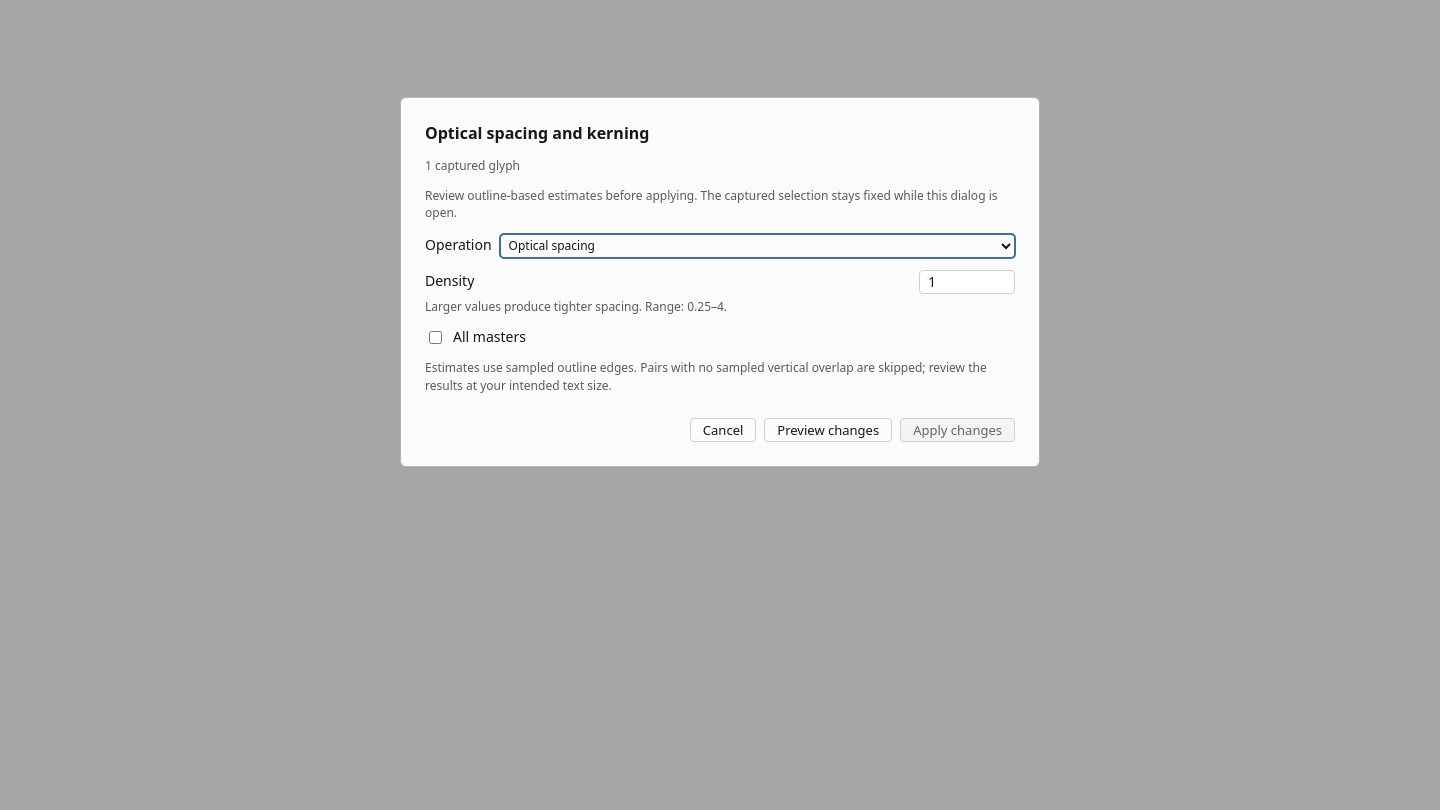
it: keeps apply disabled when the preview contains no changes
Click the button "Preview changes" at (828, 430), box [764, 418, 892, 442]
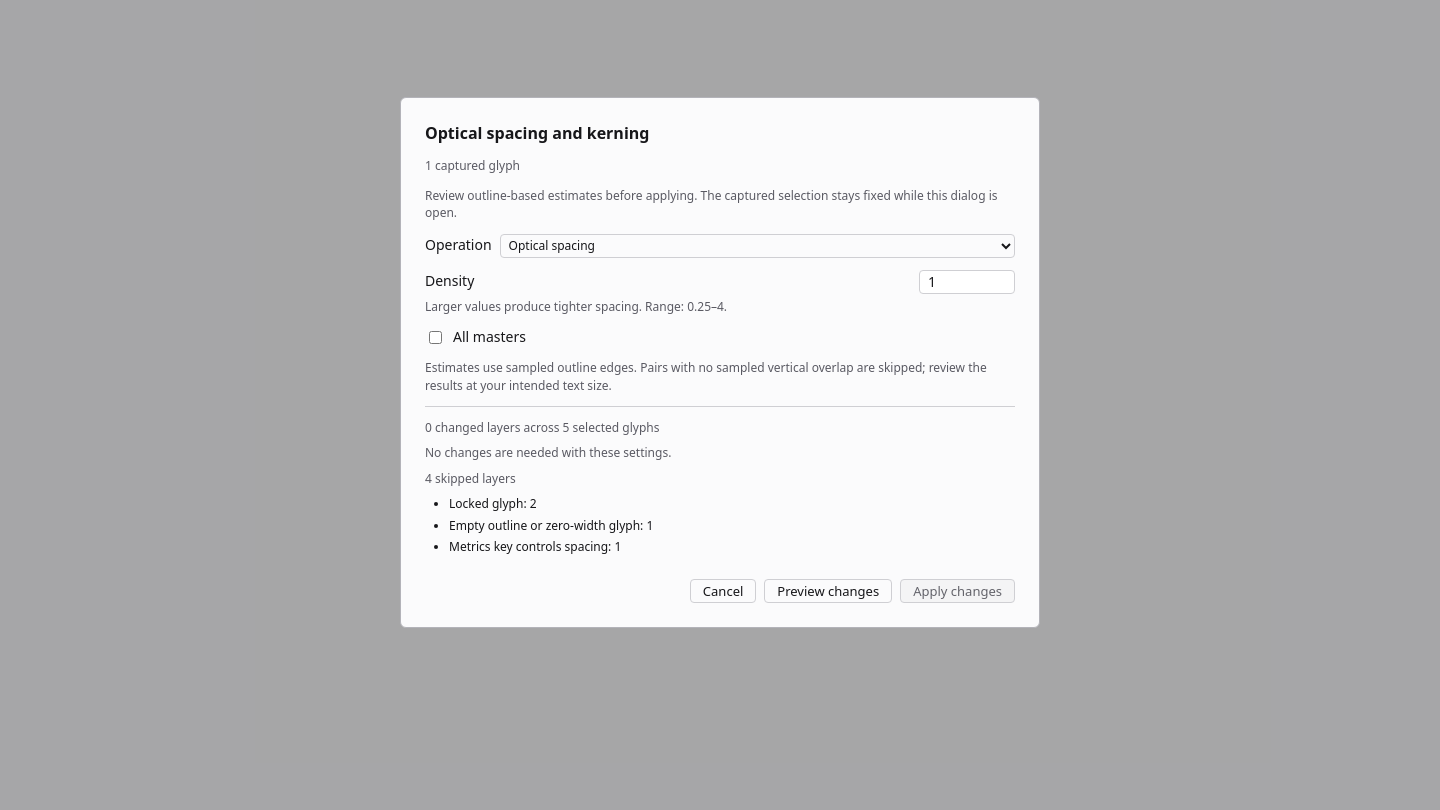
Check: the button "Apply changes" is disabled, box [900, 579, 1015, 603]
Check: the message shows "0 changed layers", box [425, 419, 660, 436]
Check: the text "No changes are needed with these settings." is shown, box [425, 444, 671, 461]
